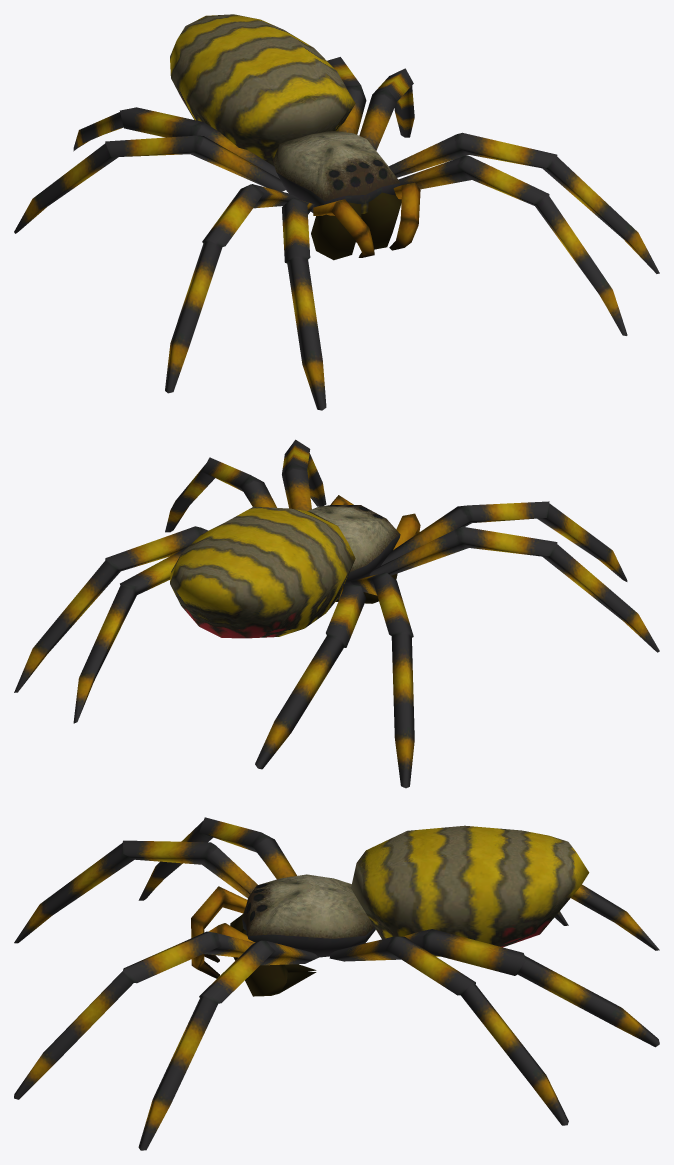
The model's file is InsectKumo.glb.
3 views of the same model, one above another, from view 1: azimuth 30°, elevation 25°; view 2: azimuth 150°, elevation 25°; view 3: azimuth 270°, elevation 25° (orthographic). The views are drawn at different scales.
Parts seen in each view (by area): view 1: pCube1__mKumo; view 2: pCube1__mKumo; view 3: pCube1__mKumo.
Boxes of the visible parts, left/top/right/bottom form: pCube1__mKumo: left=14, top=14, right=659, bottom=410; pCube1__mKumo: left=14, top=439, right=659, bottom=788; pCube1__mKumo: left=14, top=817, right=659, bottom=1150.
Size of the model in its own units: 3.94 by 1.38 by 4.28.
Materials: 1 (1 with a texture image).
